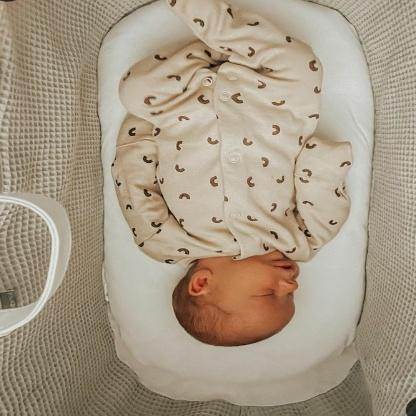baby: (110, 2, 352, 347)
